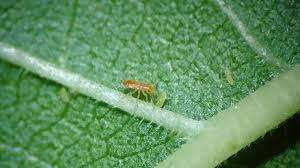Thrips: (117, 76, 160, 97)
